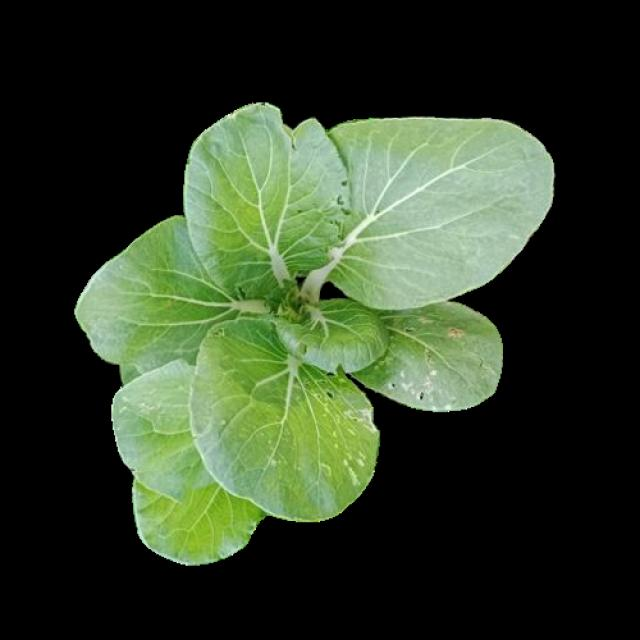not-mature: (72, 99, 548, 558)
unhealthy: (190, 328, 378, 521), (183, 101, 353, 288), (116, 362, 228, 499), (364, 305, 496, 407)
